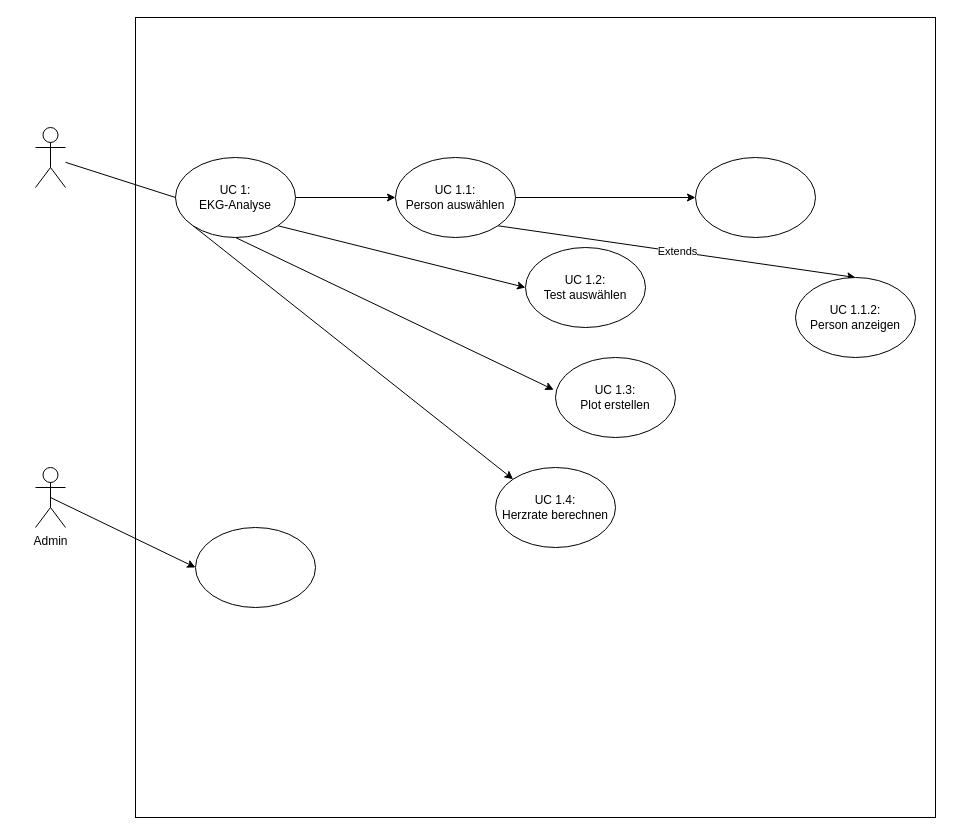
Some shapes in this 953 by 835 pixel diagram are drawn without their labels. The centre of each missing label's shape, as x and y in pixels:
Diagnostiker: the point at 50,157
UC 1.1.1: alle Personen finden: the point at 755,197
UC 2: Neue Person anlegen: the point at 255,567
